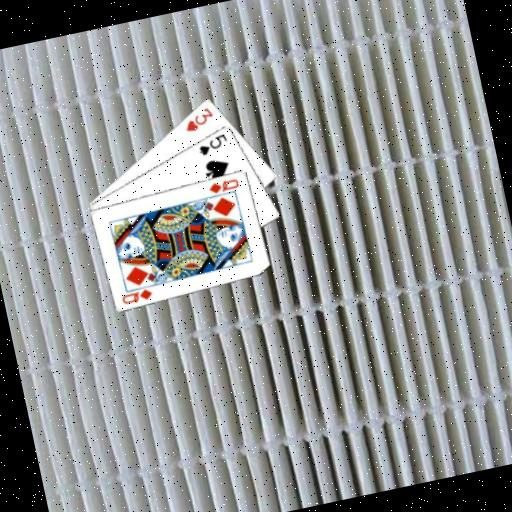3H: (179, 102, 217, 134)
5S: (193, 130, 231, 158)
QD: (118, 285, 155, 307), (205, 174, 241, 196)
